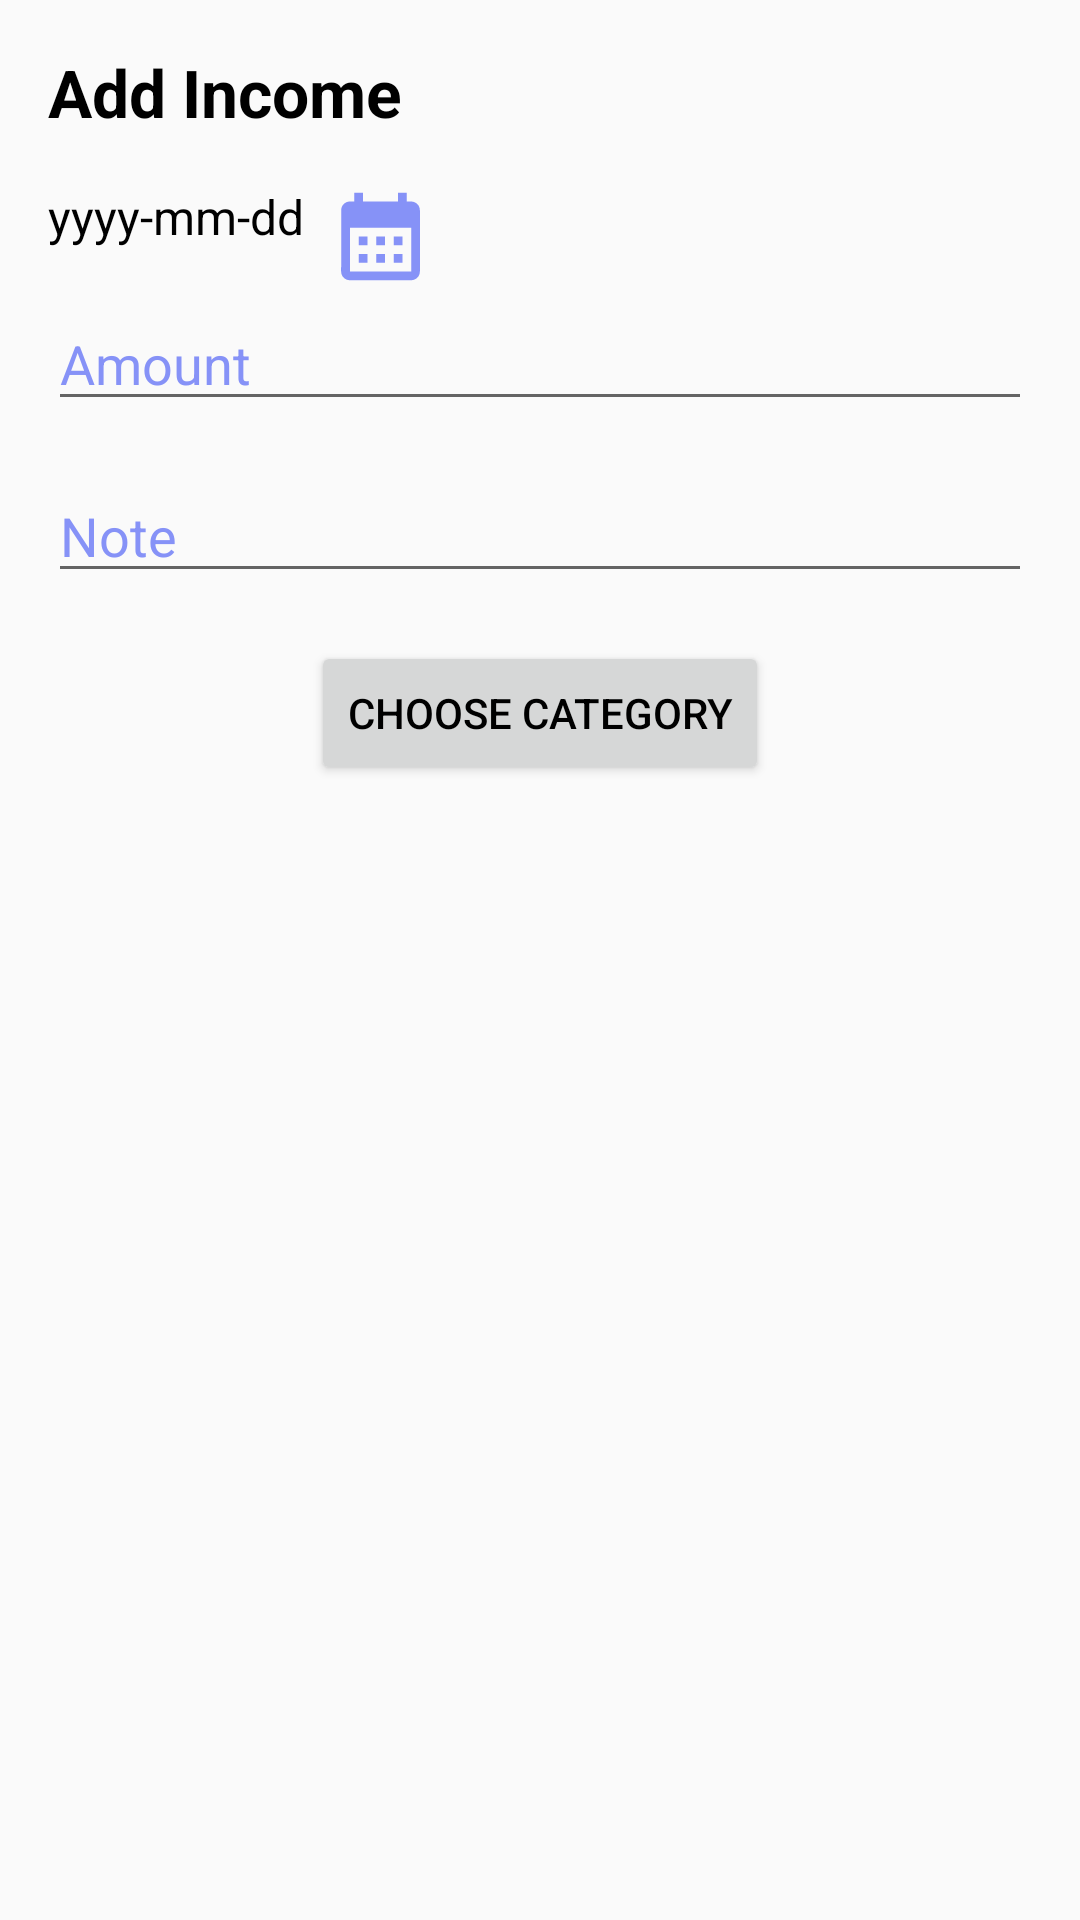

Point at icon controls on the screen. Image size 1080*1920, points as (x,y).
calendar month: (380,236)
